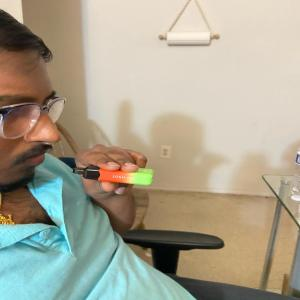Swift-E-Ciggirate: (70, 164, 157, 187)
